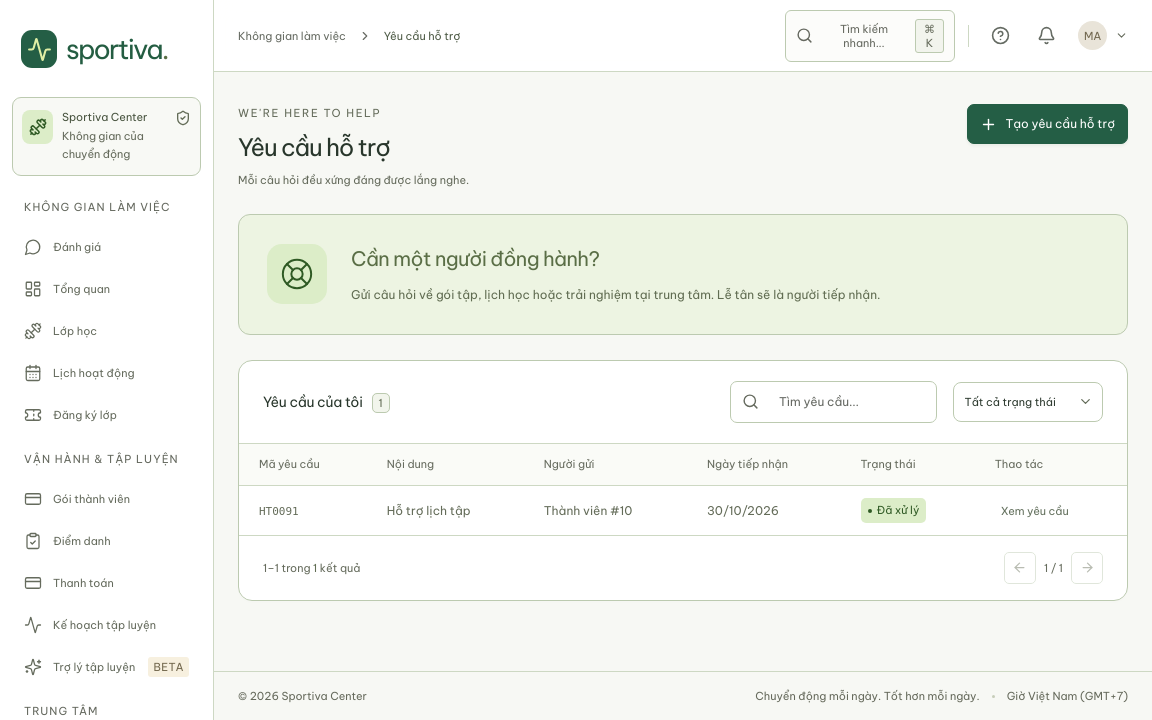
Support — API thật được mock, không ghi database › MEMBER sees resolved response without resolve/reopen
Click the button "Hỗ trợ lịch tập": coordinates (429, 511) [387,503,471,518]
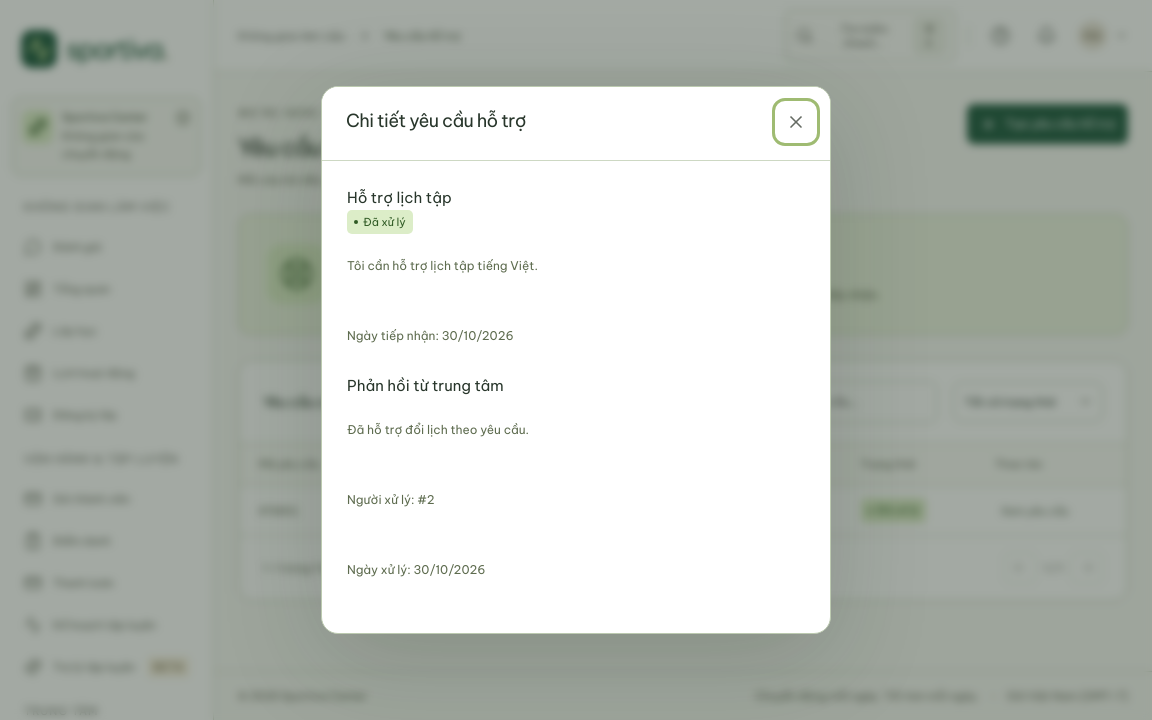
Expected: the text "Đã hỗ trợ đổi lịch theo yêu cầu." is shown, [347,422,529,437]
